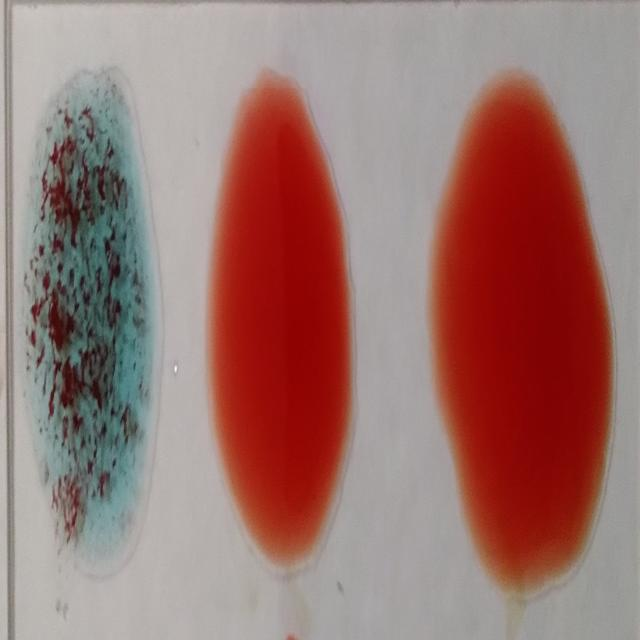A: (18, 78, 155, 566)
